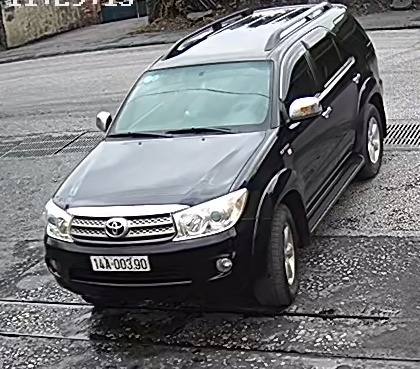vehicle plate: (82, 249, 154, 280)
